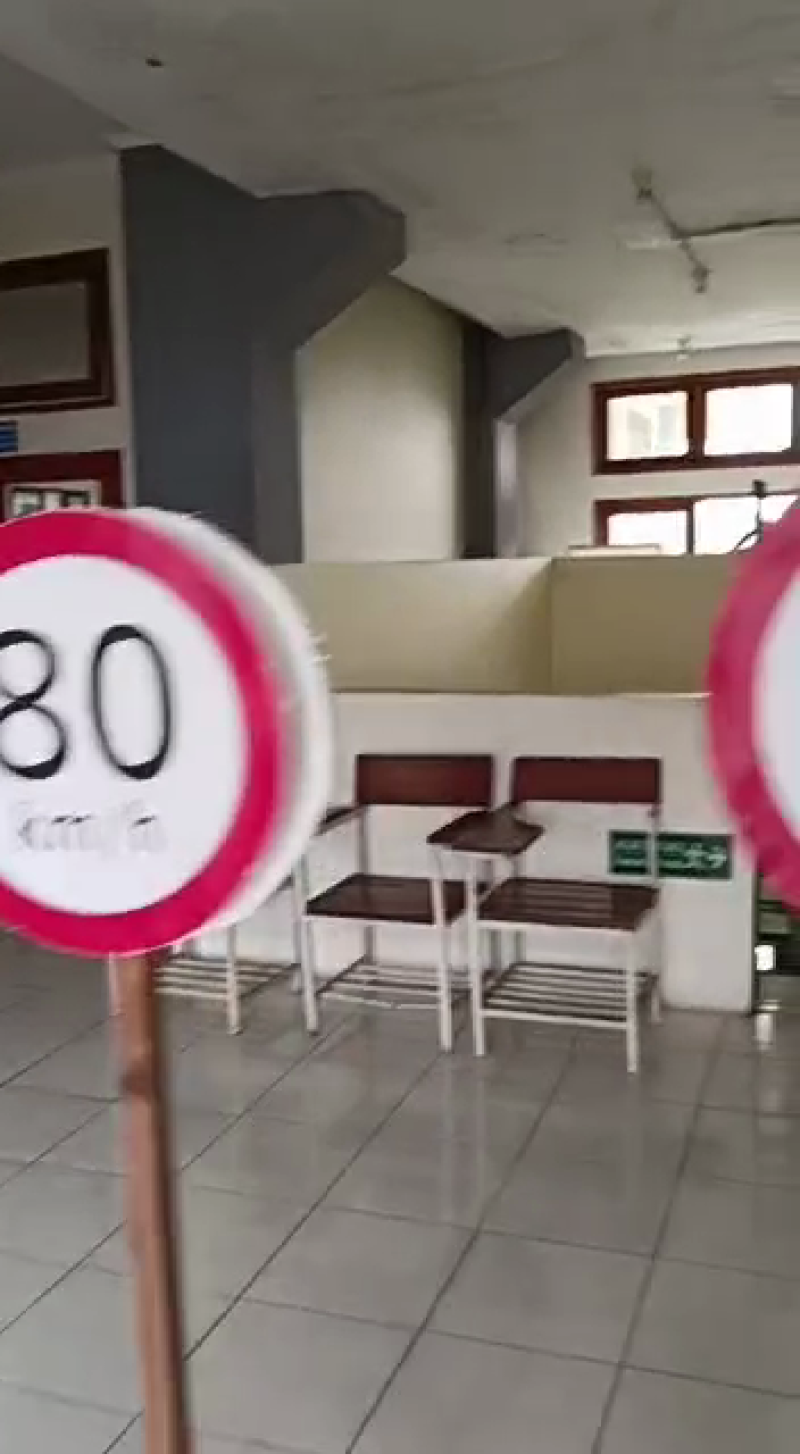batas maksimal 80kmperjam: (1, 496, 298, 970)
